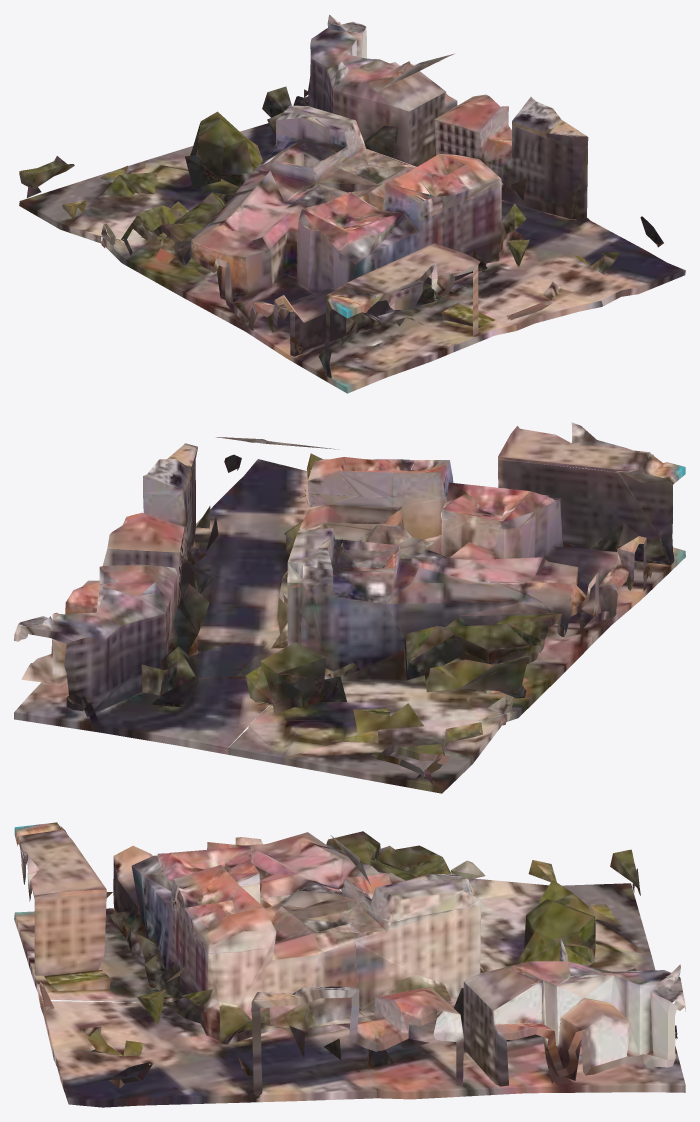
3 renders of one model, top to bottom at view 1: azimuth 30°, elevation 25°; view 2: azimuth 150°, elevation 25°; view 3: azimuth 270°, elevation 25°, orthographic. The views are drawn at different scales.
Parts seen in each view (by area): view 1: Mesh_0; view 2: Mesh_0; view 3: Mesh_0.
Part boxes in pixels (left/top/right/bottom): Mesh_0: left=19, top=15, right=685, bottom=393; Mesh_0: left=14, top=422, right=685, bottom=793; Mesh_0: left=14, top=822, right=685, bottom=1107.
Bounding box in the file's own units: 135 × 50.99 × 165.
Materials: 2 (2 with a texture image).
